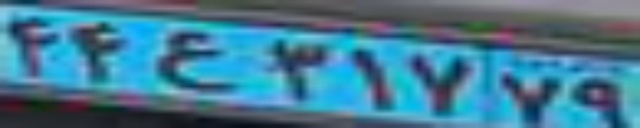1: (346, 48, 391, 111)
3: (267, 40, 336, 101)
4: (68, 19, 129, 85), (7, 16, 60, 79)
7: (405, 52, 474, 119), (496, 72, 563, 126)
9: (571, 75, 628, 127)
ain: (151, 29, 240, 93)
